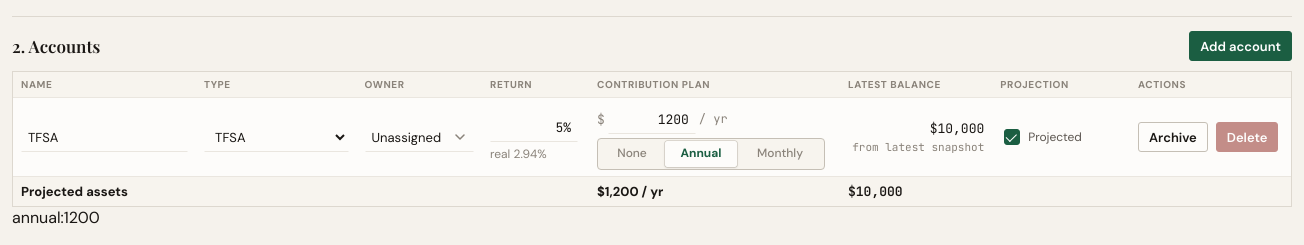
Test: AccountsSection › supports explicit no-contribution accounts without annual input
Step 1. Click the button "None" → (632, 154), box top-left (600, 141), bottom-right (664, 167)
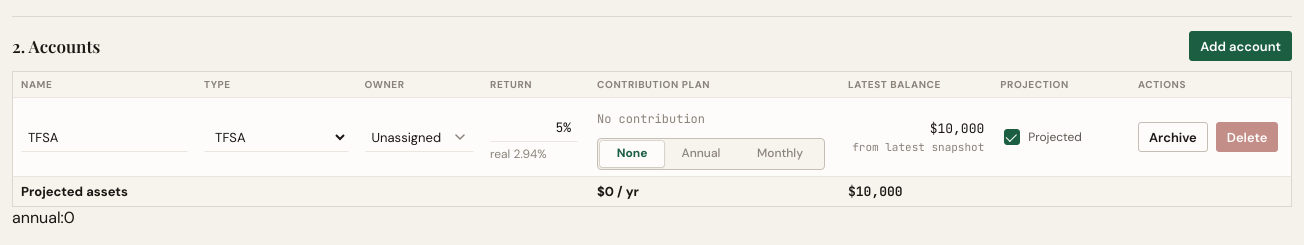
expect the text "annual:0" is shown: met, box top-left (12, 207), bottom-right (75, 228)
Step 2. Click the button "Annual" → (701, 154), box top-left (665, 141), bottom-right (737, 167)
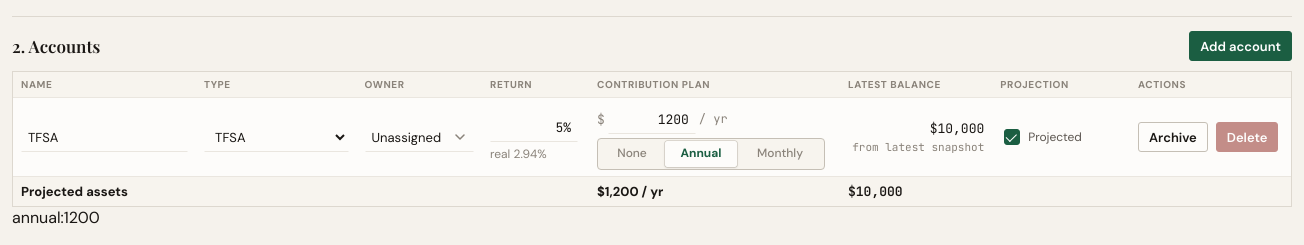
expect the text "annual:1200" is shown: met, box top-left (12, 207), bottom-right (100, 228)
expect the field named "TFSA contribution" is shown: met, box top-left (608, 104), bottom-right (696, 134)
